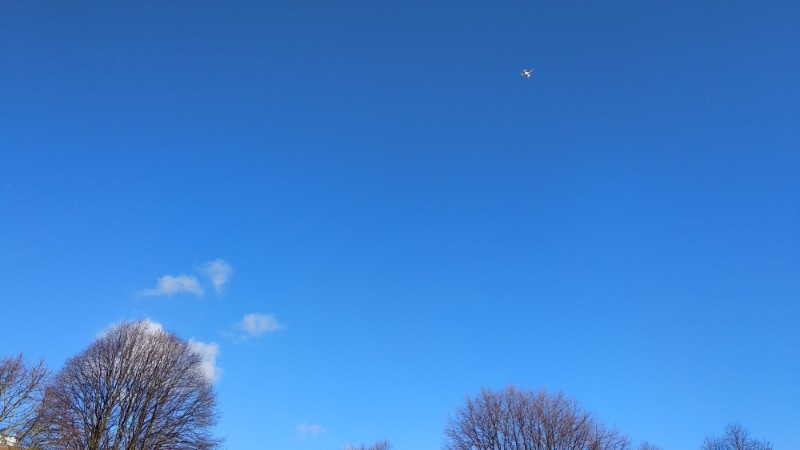drone: (518, 66, 536, 81)
